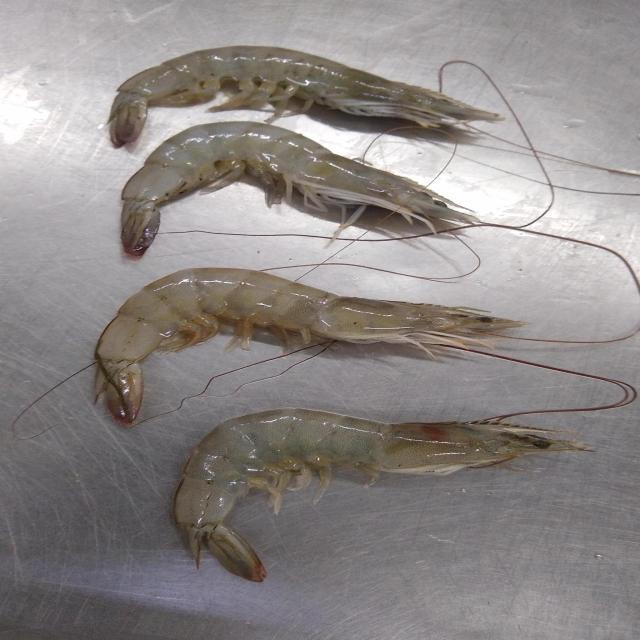shrimp: (173, 408, 587, 581), (96, 268, 524, 425), (122, 121, 478, 256), (109, 46, 504, 148)
